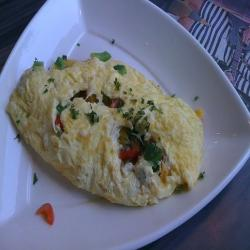omelette: (6, 54, 208, 223)
